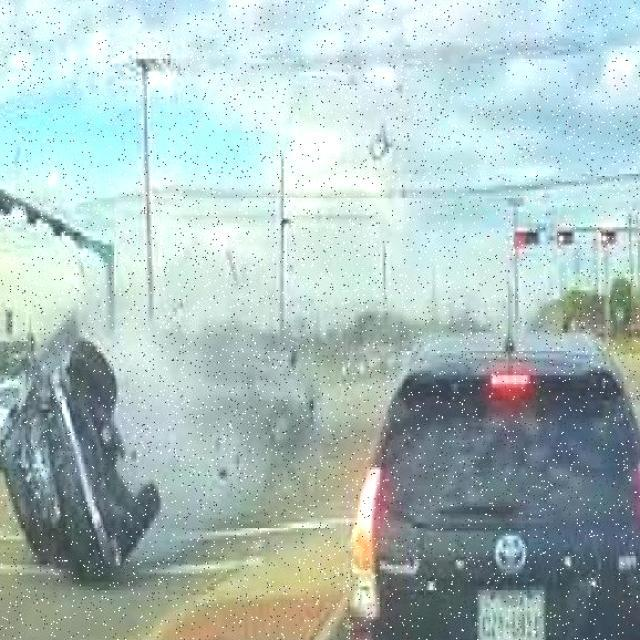accident: (0, 325, 166, 580)
